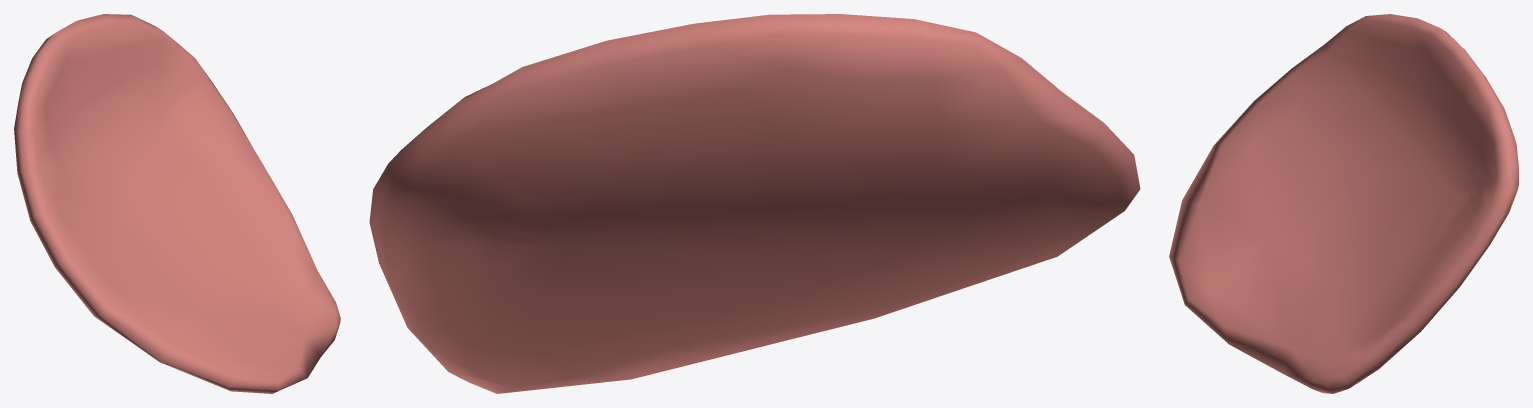
3 views of the same model, side by side, from view 1: azimuth 30°, elevation 25°; view 2: azimuth 150°, elevation 25°; view 3: azimuth 270°, elevation 25° (orthographic). The views are drawn at different scales.
Parts seen in each view (by area): view 1: ZA_ce9899afc03d2135; view 2: ZA_ce9899afc03d2135; view 3: ZA_ce9899afc03d2135.
Part boxes in pixels (box(x1,y1,x2,y2)): ZA_ce9899afc03d2135: box(14, 14, 340, 393); ZA_ce9899afc03d2135: box(369, 14, 1140, 393); ZA_ce9899afc03d2135: box(1169, 14, 1518, 393).
Bounding box in the file's own units: 0.00623 × 0.00561 × 0.00644.
